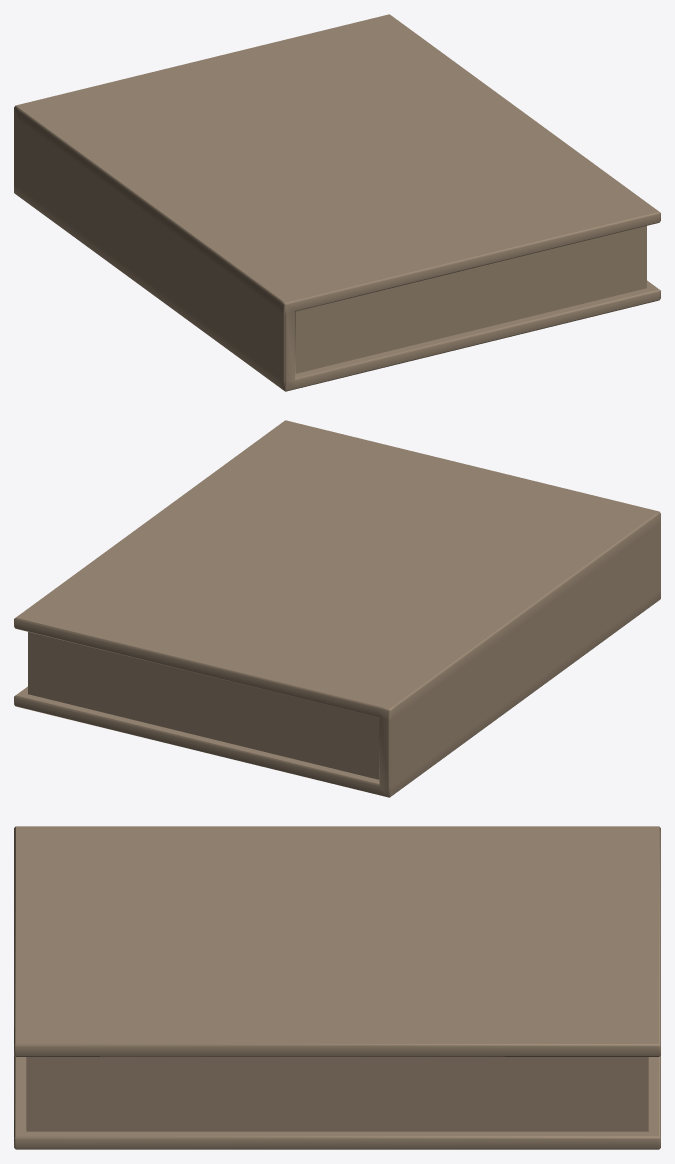
File: Book07.fbx
The picture shows the model from 3 angles, top to bottom: view 1: azimuth 30°, elevation 25°; view 2: azimuth 150°, elevation 25°; view 3: azimuth 270°, elevation 25°; orthographic projection. The views are drawn at different scales.
Parts seen in each view (by area): view 1: Book07; view 2: Book07; view 3: Book07.
Part boxes in pixels (x1,y1,x2,y2): Book07: (14,14,660,391); Book07: (14,420,660,797); Book07: (14,826,660,1149).
Bounding box in the file's own units: 0.2652 × 0.0597 × 0.3305.
